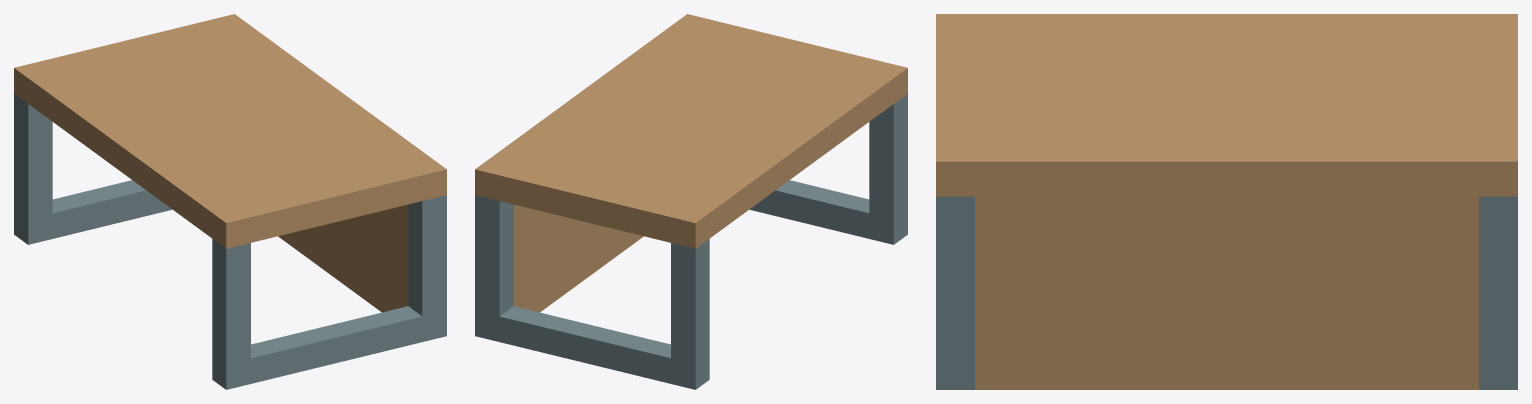
File: desk.fbx
The picture shows the model from 3 angles, left to right: view 1: azimuth 30°, elevation 25°; view 2: azimuth 150°, elevation 25°; view 3: azimuth 270°, elevation 25°; orthographic projection. The views are drawn at different scales.
Parts seen in each view (by area): view 1: Cube.008; view 2: Cube.008; view 3: Cube.008.
Boxes of the visible parts, box(x1,y1,x2,y2) form: Cube.008: box(14, 14, 446, 389); Cube.008: box(475, 14, 907, 389); Cube.008: box(936, 14, 1517, 389).
Size of the model in its own units: 891 by 535 by 386.
